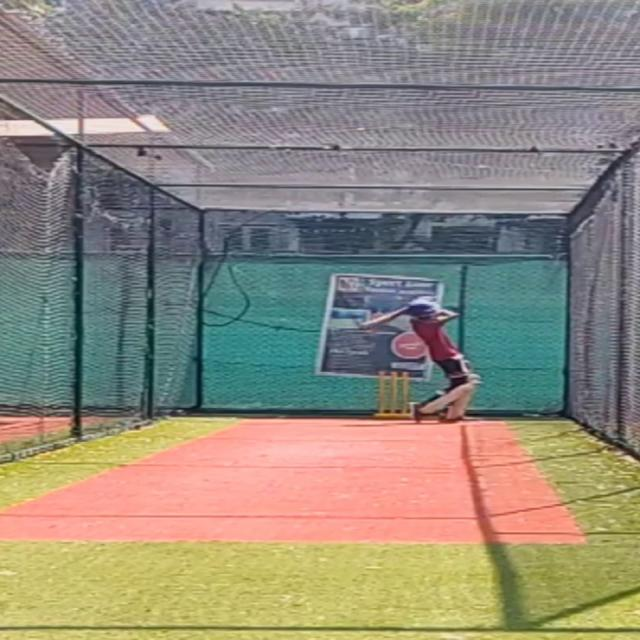stump: (372, 370, 411, 420)
